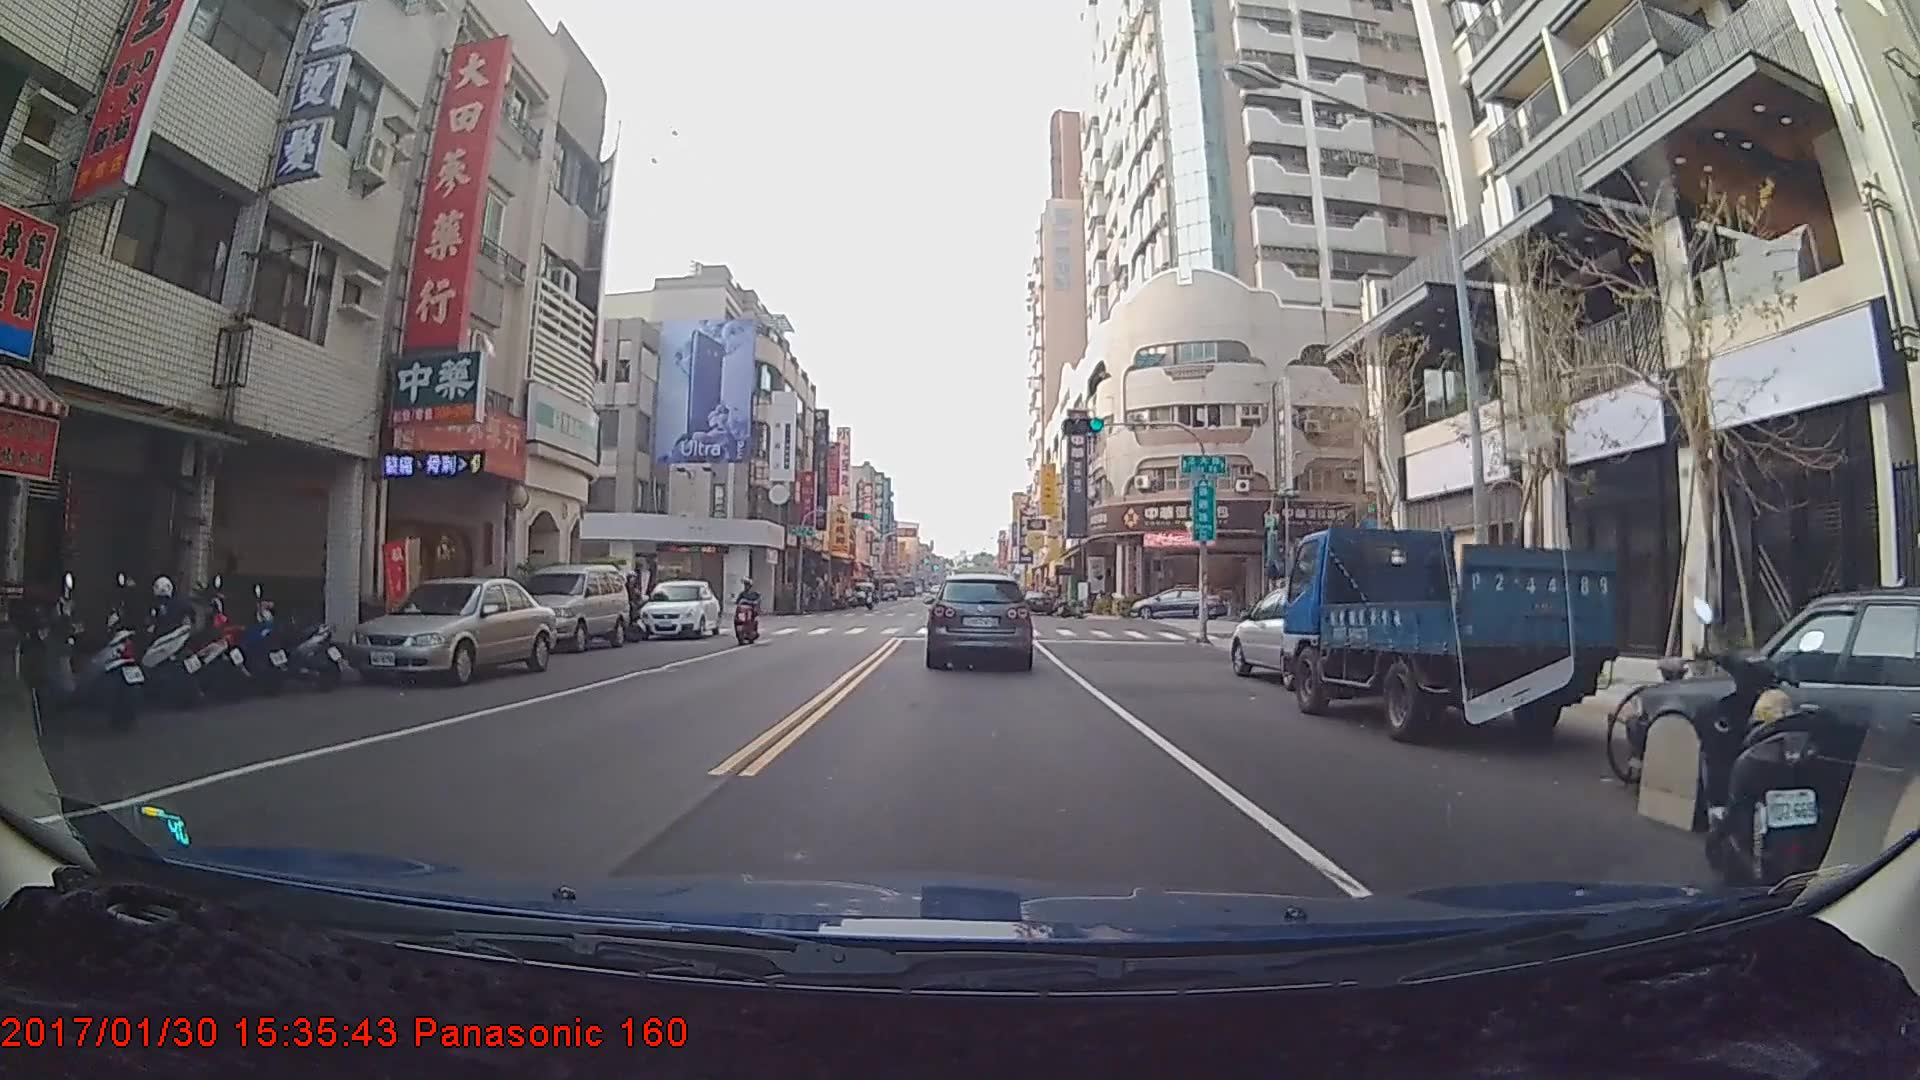rider: (734, 580, 766, 649)
vehicle: (1284, 527, 1621, 741), (338, 575, 556, 686), (1229, 582, 1366, 694), (500, 561, 630, 656), (928, 571, 1031, 669), (639, 579, 722, 640), (1128, 584, 1218, 618), (1021, 587, 1053, 613), (851, 578, 875, 604)
